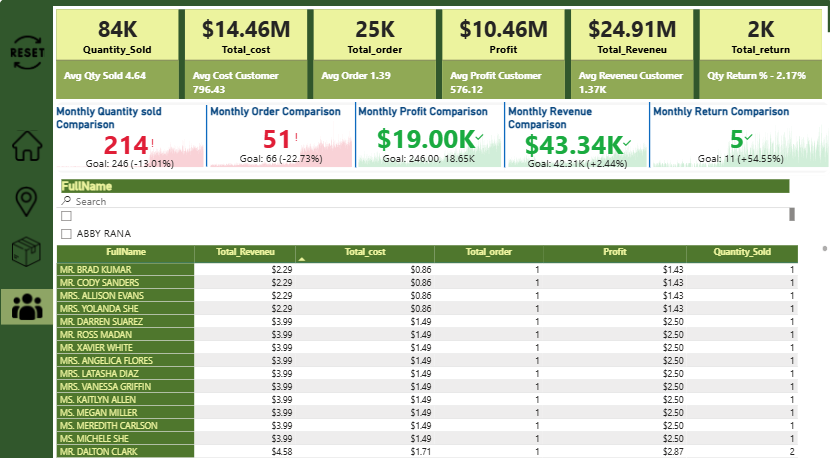

The page's visual inventory and layout, read from the dashboard file:
{"tool":"powerbi","page":{"name":"Customer_page","canvas":[1280,720],"ordinal":3},"visuals":[{"type":"shape","box":[0,0,1280,50],"z":0},{"type":"shape","box":[0,25,81.7,695],"z":1000},{"type":"cardVisual","fields":{"Data":[".Measure_Table.Quantity_Sold",".Measure_Table.Total_cost",".Measure_Table.Total_order",".Measure_Table.Profit",".Measure_Table.Total_Reveneu",".Measure_Table.Total_return"]},"box":[82.1,8.6,1192.3,165.6],"z":2000},{"type":"shape","box":[82.1,152.6,1198.3,118.3],"z":3000,"group":"g1"},{"type":"group","id":"g1","title":"Group 1","box":[82.1,152.6,1198.1,118.1],"z":3000},{"type":"kpi","title":"Monthly Quantity sold Comparison","fields":{"Indicator":[".Measure_Table.Quantity_Sold"],"TrendLine":["Calendar Lookup.Date"],"Goal":[".Measure_Table.Previous_month_QTY_sold"]},"box":[82.1,162.5,236.7,100.6],"z":4000,"group":"g1"},{"type":"tableEx","fields":{"Values":["Customer Lookup.FullName",".Measure_Table.Total_Reveneu",".Measure_Table.Total_cost",".Measure_Table.Total_order",".Measure_Table.Profit",".Measure_Table.Quantity_Sold"]},"box":[82.1,373,1196.6,347],"z":4000},{"type":"kpi","title":"Monthly Order Comparison","fields":{"TrendLine":["Calendar Lookup.Date"],"Indicator":[".Measure_Table.Total_order"],"Goal":[".Measure_Table.Previous_month_order"]},"box":[318.8,162.5,228.3,100.6],"z":5000,"group":"g1"},{"type":"slicer","fields":{"Values":["Customer Lookup.FullName"]},"box":[82.1,270.7,1146.2,102.2],"z":5000},{"type":"kpi","title":"Monthly Profit Comparison","fields":{"TrendLine":["Calendar Lookup.Date"],"Goal":[".Measure_Table.Previous_month_QTY_sold",".Measure_Table.Previous_month_profit"],"Indicator":[".Measure_Table.Profit"]},"box":[547.1,161.5,230,100.6],"z":6000,"group":"g1"},{"type":"kpi","title":"Monthly Return Comparison","fields":{"TrendLine":["Calendar Lookup.Date"],"Indicator":[".Measure_Table.Qty_Return"],"Goal":[".Measure_Table.Previous_month_QTY_return"]},"box":[1000.4,161.5,280,100.6],"z":7000,"group":"g1"},{"type":"actionButton","box":[1.4,197.3,80.6,54.7],"z":7000},{"type":"kpi","title":"Monthly Revenue Comparison","fields":{"TrendLine":["Calendar Lookup.Date"],"Goal":[".Measure_Table.Previous_month_reveneu"],"Indicator":[".Measure_Table.Total_Reveneu"]},"box":[777.1,161.5,223.3,100.6],"z":8000,"group":"g1"},{"type":"actionButton","box":[0,283.7,80.6,54.7],"z":8000},{"type":"shape","box":[307.1,162.5,23.3,94.7],"z":9000,"group":"g1"},{"type":"actionButton","box":[0,360,80.6,54.7],"z":9000},{"type":"shape","box":[535.4,157.5,23.3,100.6],"z":10000,"group":"g1"},{"type":"actionButton","box":[1.4,445,80.6,54.7],"z":10000},{"type":"actionButton","box":[13,50.4,67.7,60.5],"z":10001},{"type":"shape","box":[765.4,156.5,23.3,100.6],"z":11000,"group":"g1"},{"type":"shape","box":[988.8,157.5,23.3,100.6],"z":12000,"group":"g1"}]}

Visuals, with their boxes on the page's 1280x720 design canvas (x1, y1, x2, y2). These are canvas units, not pixel positions in the 830x458 screenshot, which may show the page scaled, cropped or inside an application window:
shape: region(0, 0, 1280, 50)
shape: region(0, 25, 82, 720)
cardVisual - .Measure_Table.Quantity_Sold x .Measure_Table.Total_cost: region(82, 9, 1274, 174)
shape: region(82, 153, 1280, 271)
"Group 1" group: region(82, 153, 1280, 271)
"Monthly Quantity sold Comparison" kpi: region(82, 162, 319, 263)
tableEx - Customer Lookup.FullName x .Measure_Table.Total_Reveneu: region(82, 373, 1279, 720)
"Monthly Order Comparison" kpi: region(319, 162, 547, 263)
slicer - Customer Lookup.FullName: region(82, 271, 1228, 373)
"Monthly Profit Comparison" kpi: region(547, 162, 777, 262)
"Monthly Return Comparison" kpi: region(1000, 162, 1280, 262)
actionButton: region(1, 197, 82, 252)
"Monthly Revenue Comparison" kpi: region(777, 162, 1000, 262)
actionButton: region(0, 284, 81, 338)
shape: region(307, 162, 330, 257)
actionButton: region(0, 360, 81, 415)
shape: region(535, 158, 559, 258)
actionButton: region(1, 445, 82, 500)
actionButton: region(13, 50, 81, 111)
shape: region(765, 156, 789, 257)
shape: region(989, 158, 1012, 258)
